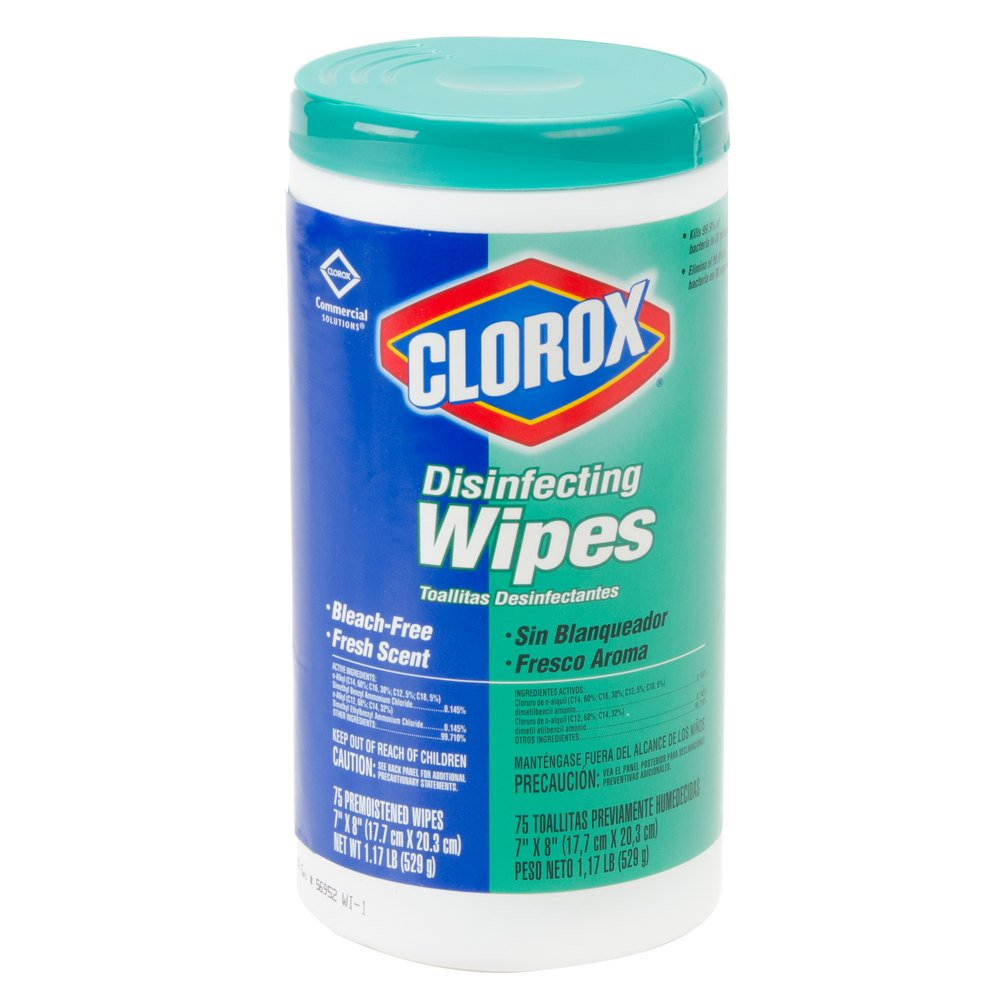Wipes: (273, 30, 741, 981)
